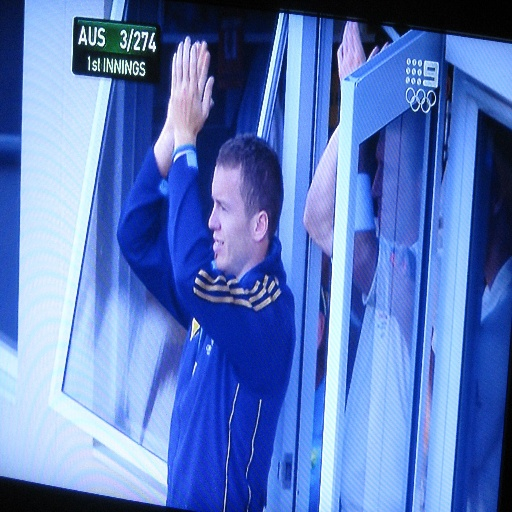hand: (166, 40, 215, 135), (337, 19, 376, 79)
